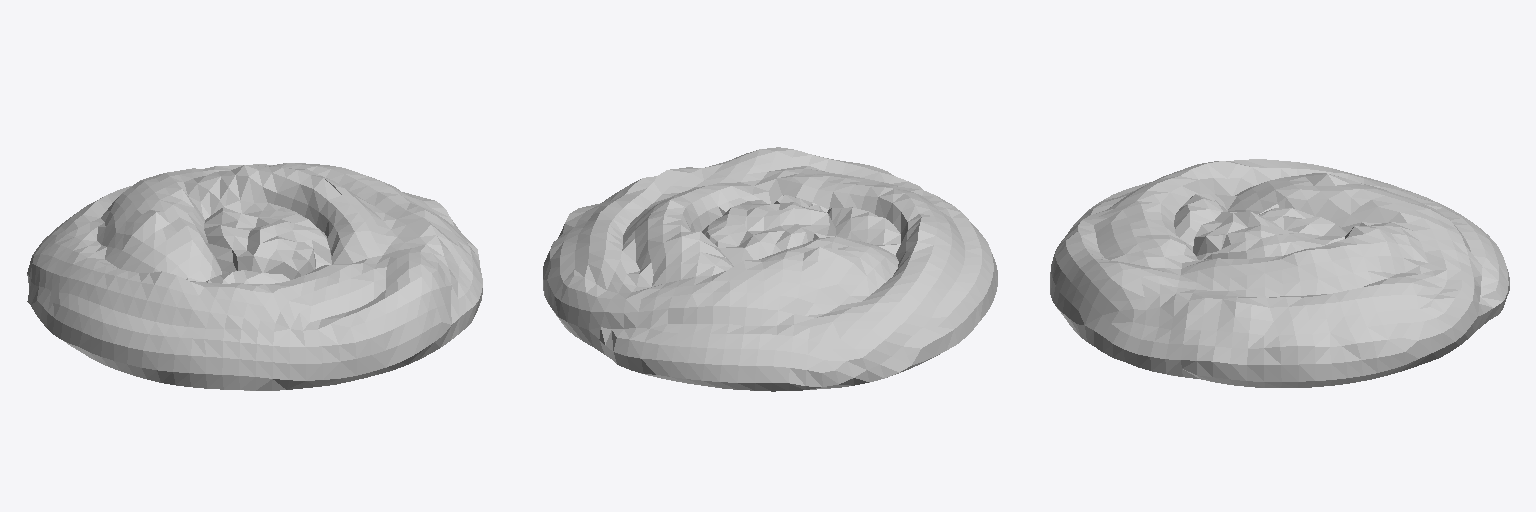
File: cheesedanish_01.obj
3 views of the same model, side by side, from view 1: azimuth 30°, elevation 25°; view 2: azimuth 150°, elevation 25°; view 3: azimuth 270°, elevation 25° (orthographic).
Visible parts, largest first — view 1: cheesedanish_01_cheesedanish3.001; view 2: cheesedanish_01_cheesedanish3.001; view 3: cheesedanish_01_cheesedanish3.001.
Boxes of the visible parts, x1=… form: cheesedanish_01_cheesedanish3.001: x1=27, y1=163, x2=482, y2=390; cheesedanish_01_cheesedanish3.001: x1=543, y1=147, x2=997, y2=391; cheesedanish_01_cheesedanish3.001: x1=1050, y1=159, x2=1509, y2=387.
Bounding box in the file's own units: 0.1489 × 0.0339 × 0.151.